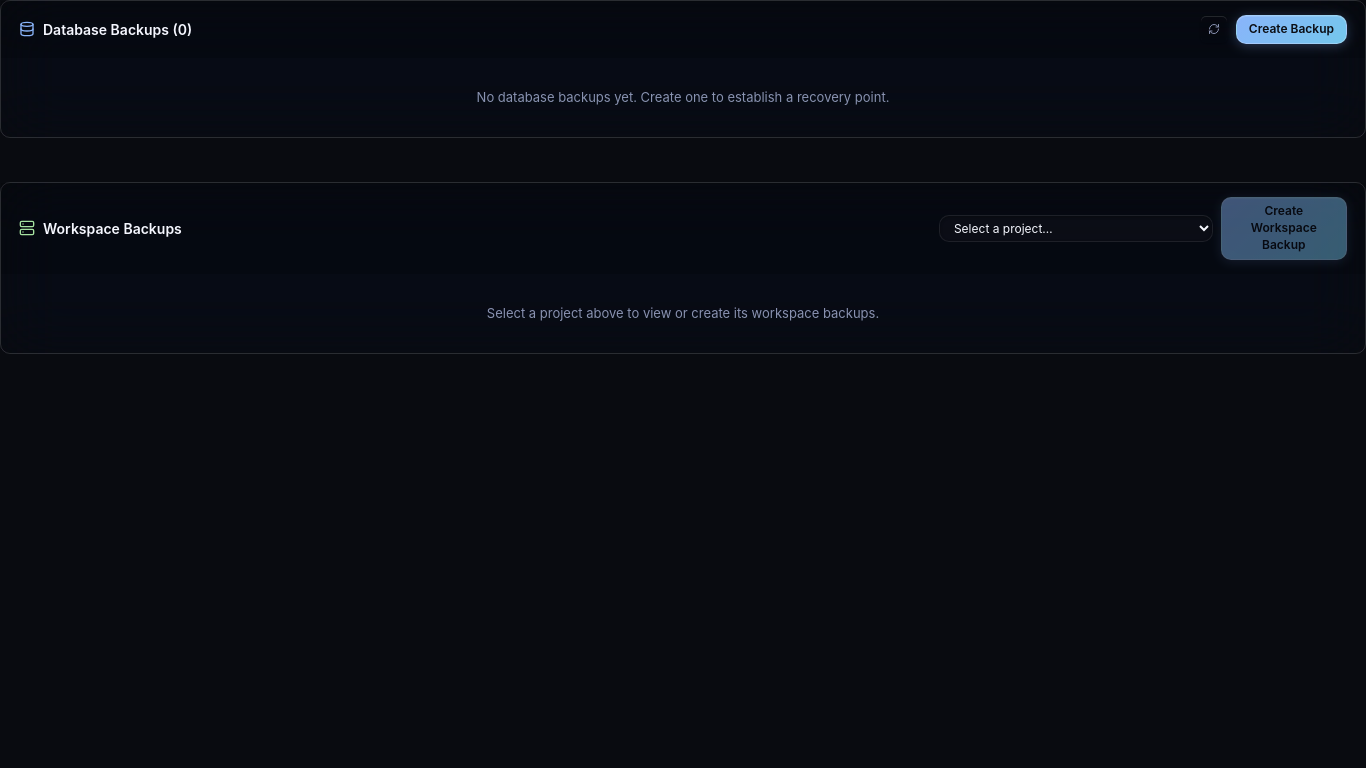
AdminBackupsPanel — Milestone 46 › 15. restore confirmation names the exact project, filename, and timestamp
The width and height of the screenshot is (1366, 768).
Expected: the text "No database backups yet" is shown, [477,89,889,105]
Select "My Project (alice)" in the dropdown. click: (1076, 228)
box: [939,215,1213,242]
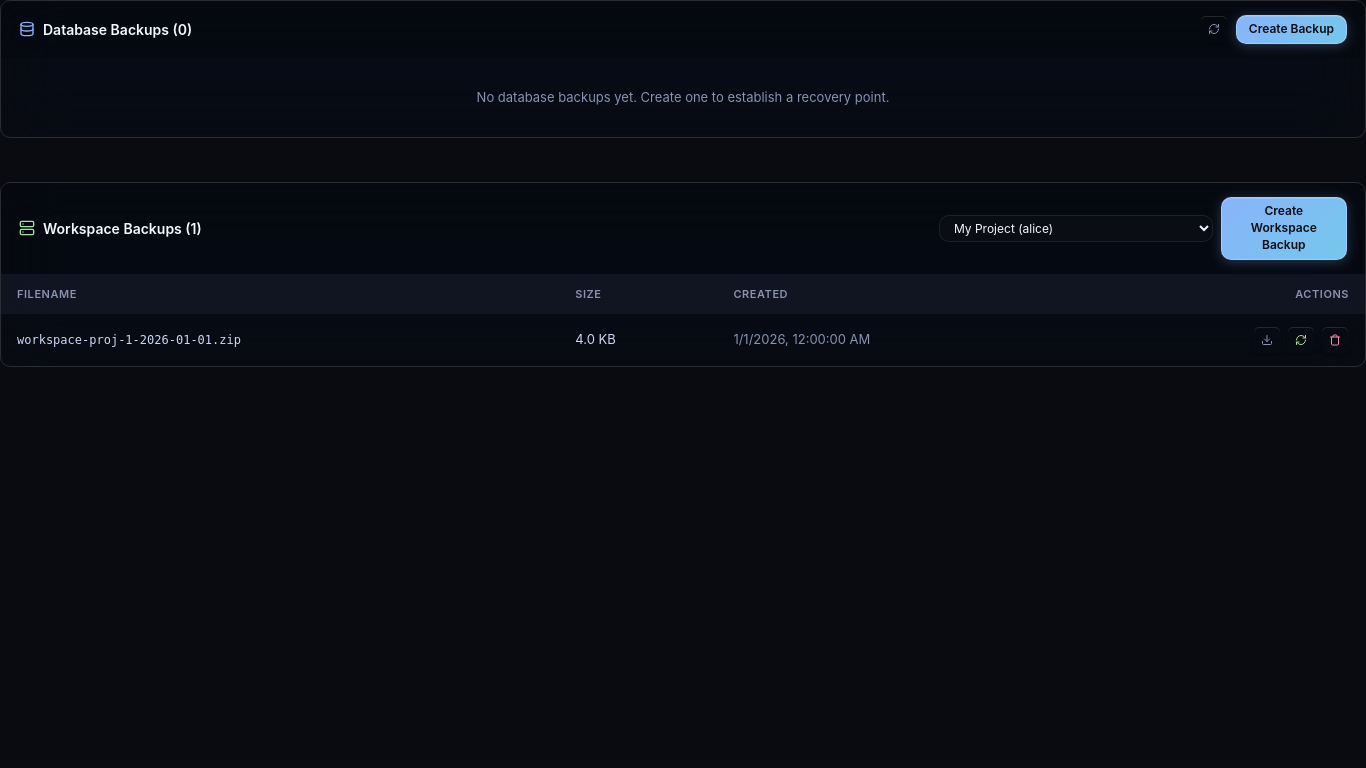
Now the text "workspace-proj-1-2026-01-01.zip" is shown, box [1,314,559,366]
Click the button named "Restore workspace-proj-1-2026-01-01.zip". click: (1301, 340)
box: [1287,326,1315,354]
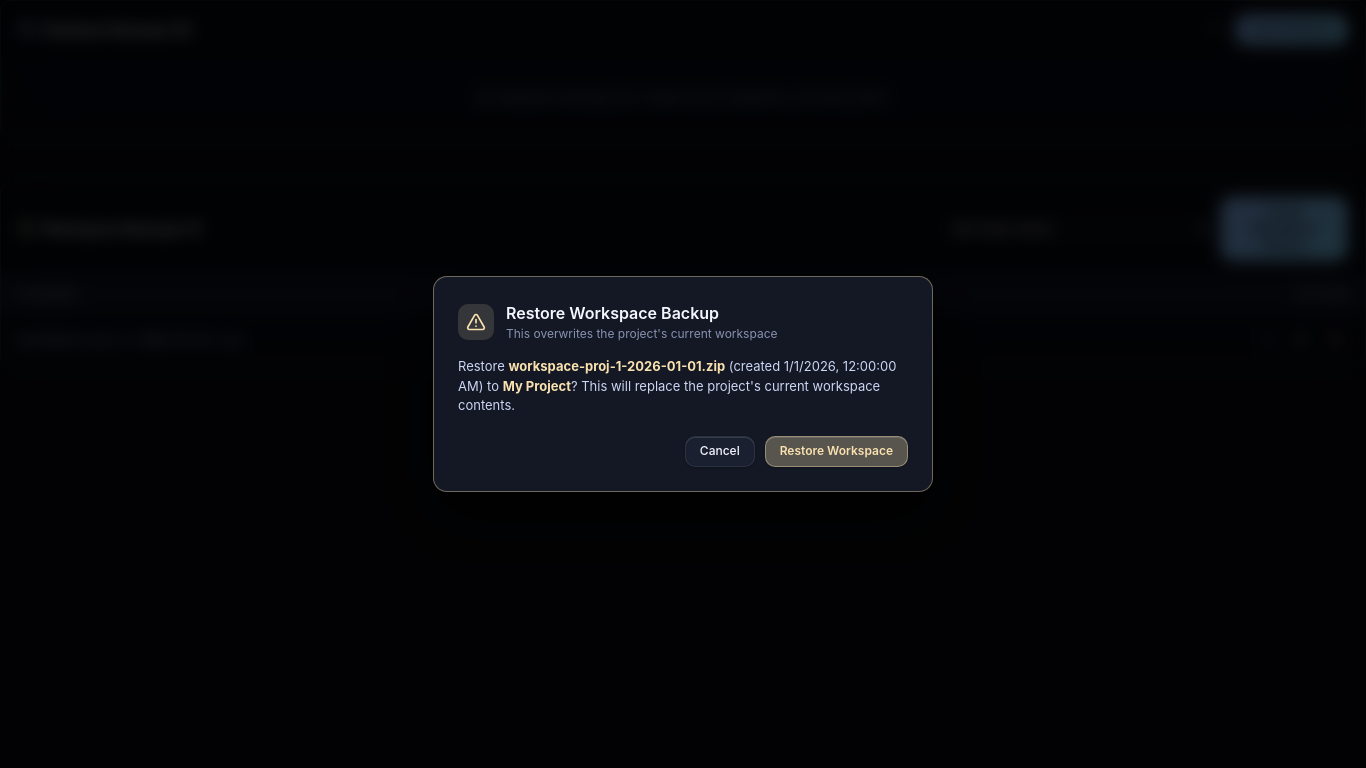
Now the heading "Restore Workspace Backup" is shown, box [506,303,719,323]
Now the text "This will replace the project's current workspace contents" shows "workspace-proj-1-2026-01-01.zip", box [508,358,725,374]
Now the text "This will replace the project's current workspace contents" shows "My Project", box [503,378,571,394]
